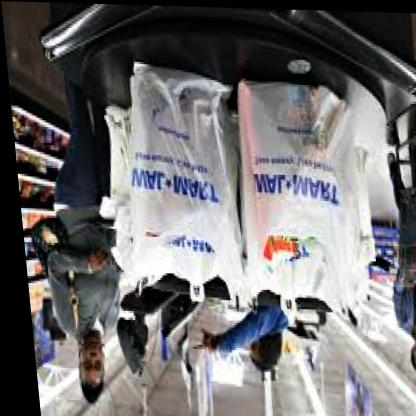Plastic: (82, 70, 386, 316)
